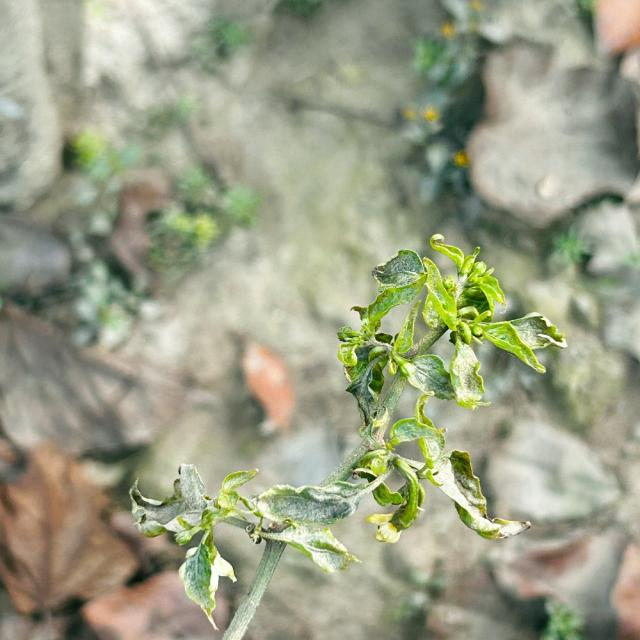Chilli_Leaf_Curl: (128, 232, 567, 634), (337, 232, 567, 412), (0, 440, 139, 620), (127, 462, 261, 630)
